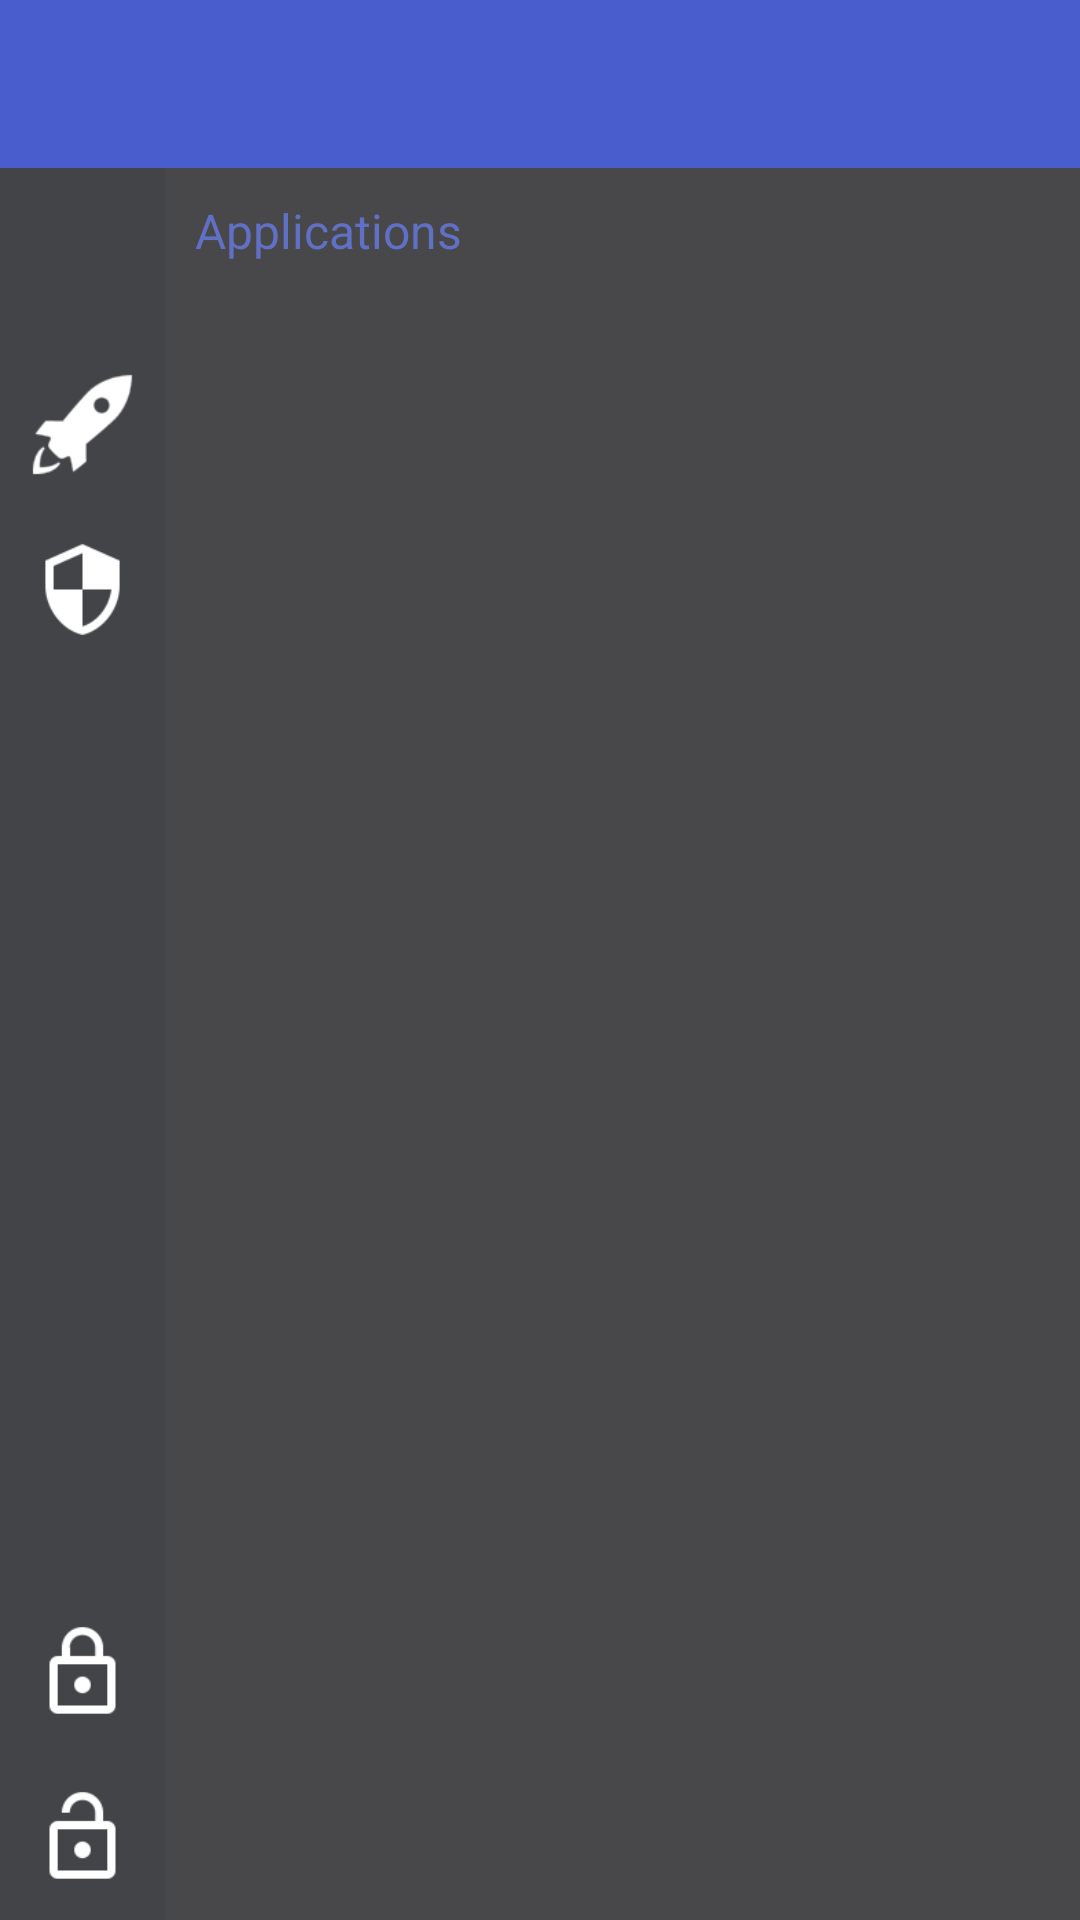

Named icons in this screenshot (1080x1920) and their bounding boxes, (x1, y1, x2, y2):
go booster: (32, 375, 132, 475)
locked: (49, 1627, 116, 1714)
security: (45, 544, 120, 635)
unlocked: (49, 1792, 116, 1879)
